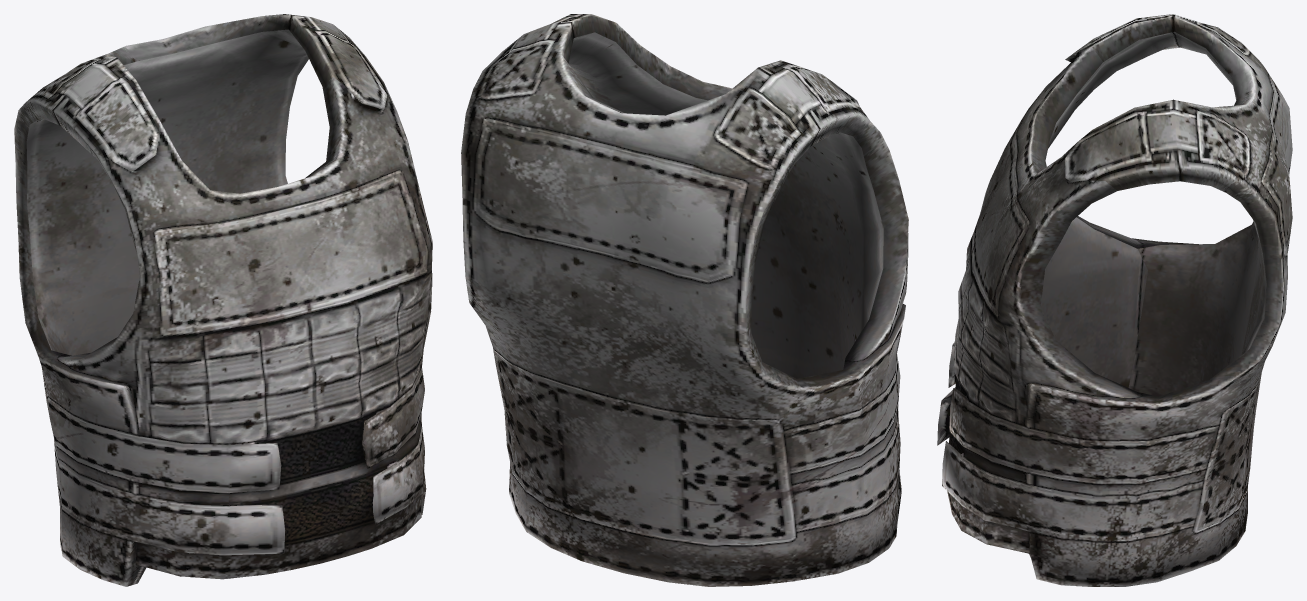
The model's file is SurvivorMale_Armor_Kevlar_Basic_Patches_LOD0.glb.
The picture shows the model from 3 angles, left to right: view 1: azimuth 30°, elevation 25°; view 2: azimuth 150°, elevation 25°; view 3: azimuth 270°, elevation 25°; orthographic projection. The views are drawn at different scales.
Parts seen in each view (by area): view 1: Hoodie; view 2: Hoodie; view 3: Hoodie.
Part boxes in pixels (box(x1,y1,x2,y2)): Hoodie: box(14, 14, 432, 586); Hoodie: box(461, 14, 908, 586); Hoodie: box(937, 14, 1292, 586).
Bounding box in the file's own units: 0.4027 × 0.5167 × 0.3667.
1 material, 1 textured.
